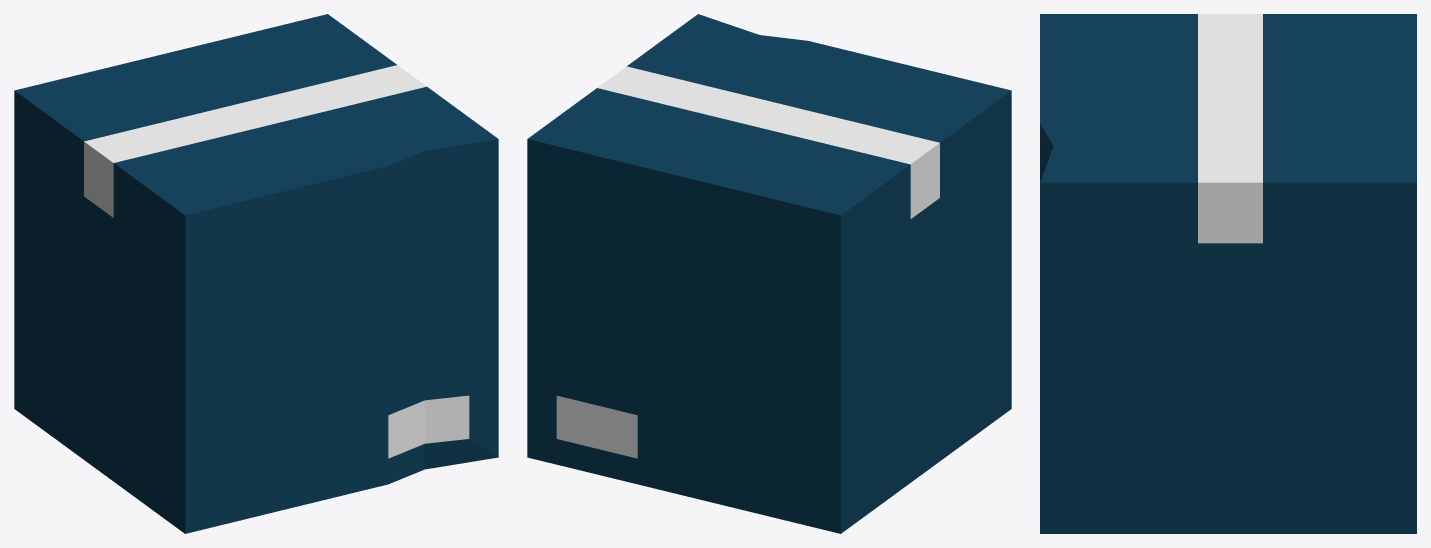
File: CardboardBoxes_2.fbx
3 views of the same model, side by side, from view 1: azimuth 30°, elevation 25°; view 2: azimuth 150°, elevation 25°; view 3: azimuth 270°, elevation 25° (orthographic). The views are drawn at different scales.
Visible parts, largest first — view 1: CardboardBoxes_2; view 2: CardboardBoxes_2; view 3: CardboardBoxes_2.
Part boxes in pixels (x1,y1,x2,y2): CardboardBoxes_2: (14, 14, 498, 533); CardboardBoxes_2: (527, 14, 1011, 533); CardboardBoxes_2: (1040, 14, 1416, 533).
Size of the model in its own units: 0.9755 by 0.9473 by 0.9207.
